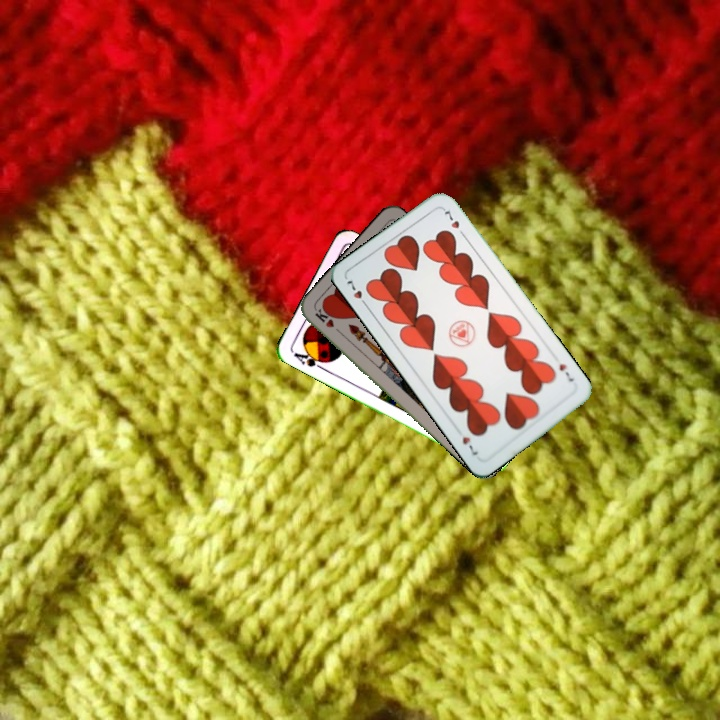H7: (342, 276, 371, 310), (555, 360, 576, 385)
HK: (311, 305, 345, 338)
SA: (289, 345, 330, 372)
